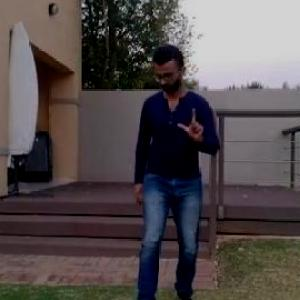land_hand: (174, 105, 212, 146)
